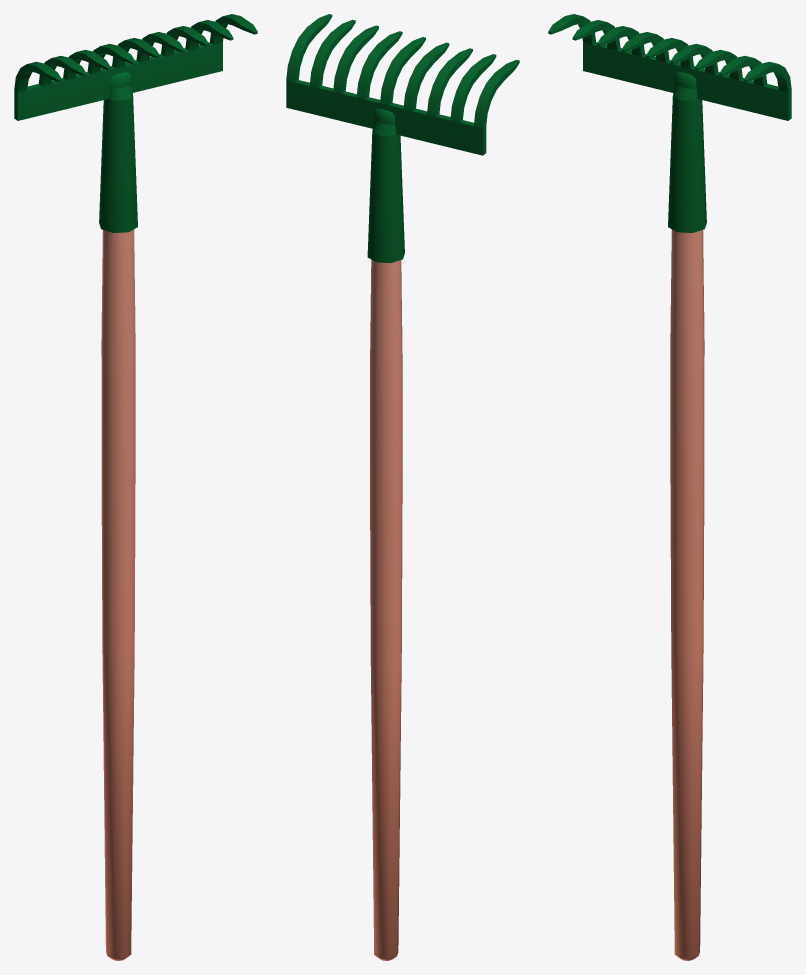
File: Rake_01.fbx
The picture shows the model from 3 angles, left to right: view 1: azimuth 30°, elevation 25°; view 2: azimuth 150°, elevation 25°; view 3: azimuth 330°, elevation 25°; orthographic projection. The views are drawn at different scales.
Visible parts, largest first — view 1: Rake_01; view 2: Rake_01; view 3: Rake_01.
Boxes of the visible parts, x1,y1,x2,y2 form: Rake_01: (14, 14, 257, 960); Rake_01: (286, 14, 519, 960); Rake_01: (548, 14, 791, 960).
Bounding box in the file's own units: 34.58 × 14.58 × 150.
